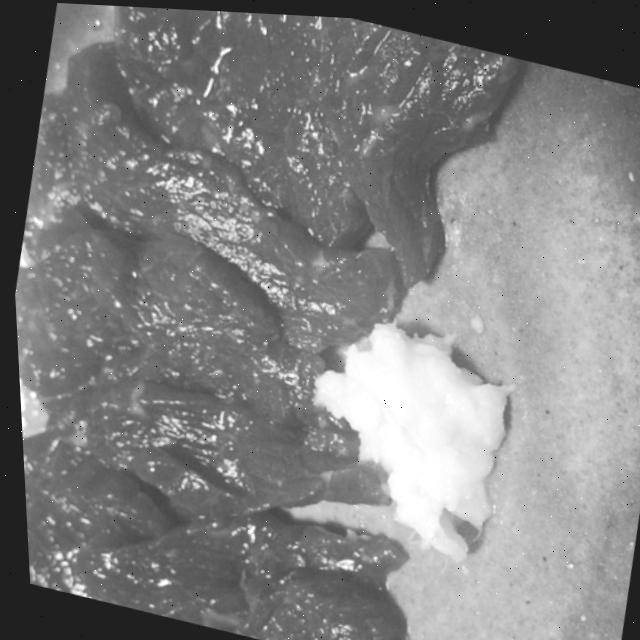刺身生食: (0, 0, 617, 640)
